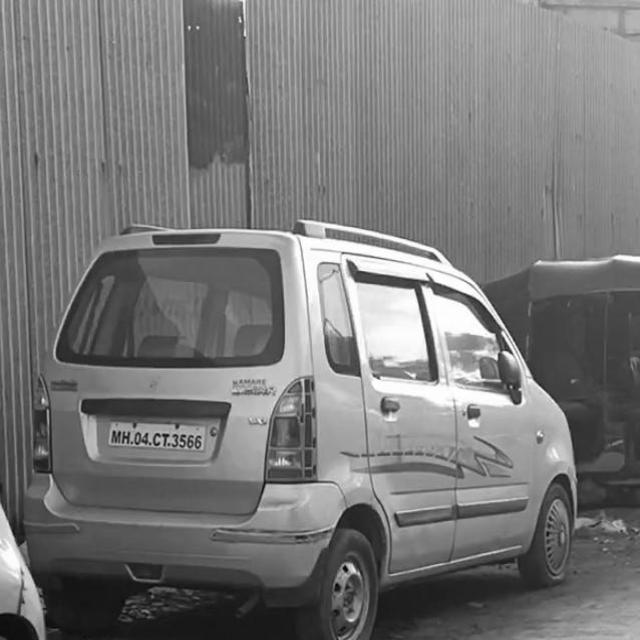car: (21, 216, 585, 640)
license-plate: (104, 419, 208, 458)
